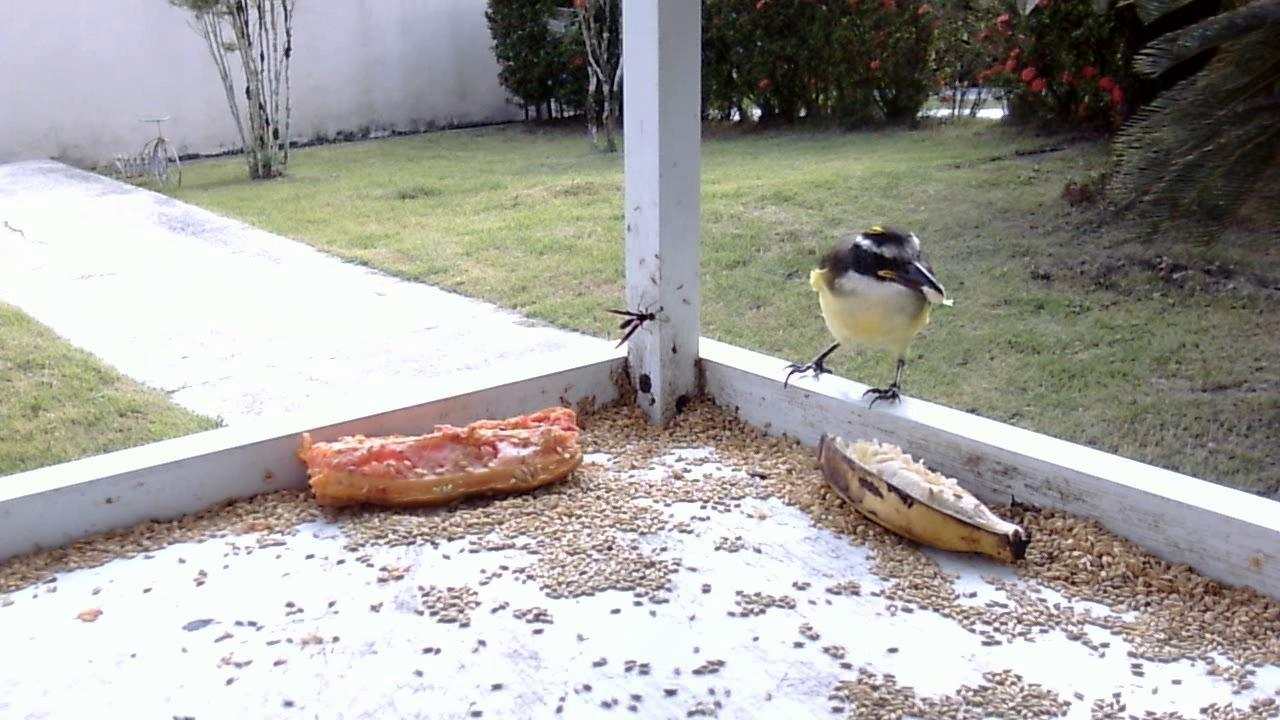bem_te_vi: (780, 217, 956, 417)
